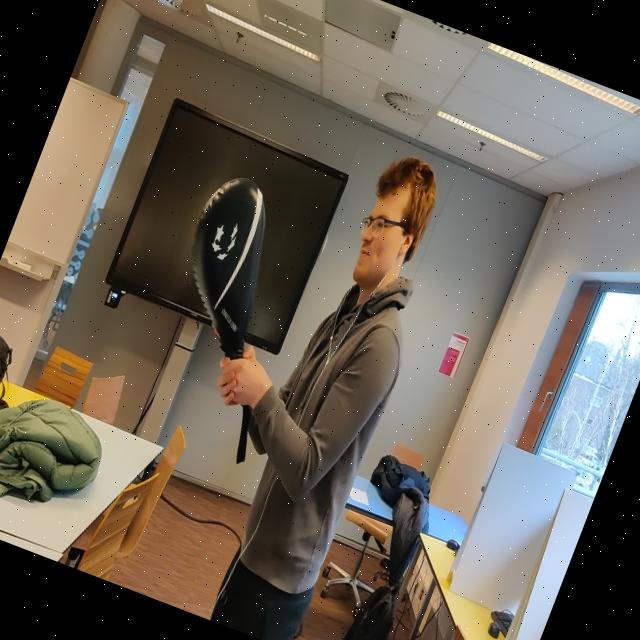paddle: (190, 178, 267, 359)
